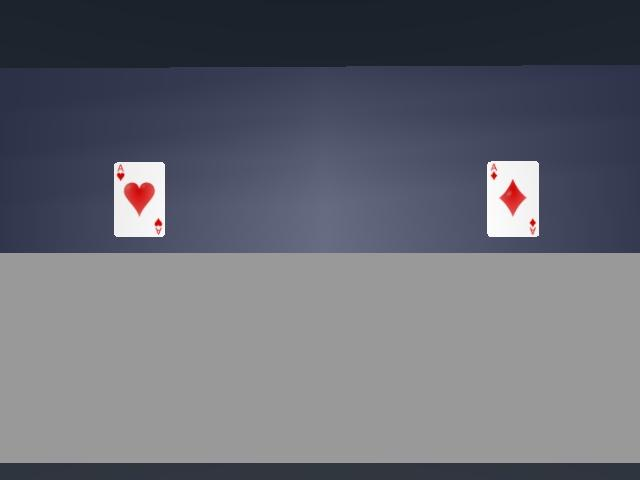diamond: (487, 161, 538, 236)
heart: (114, 162, 164, 236)
